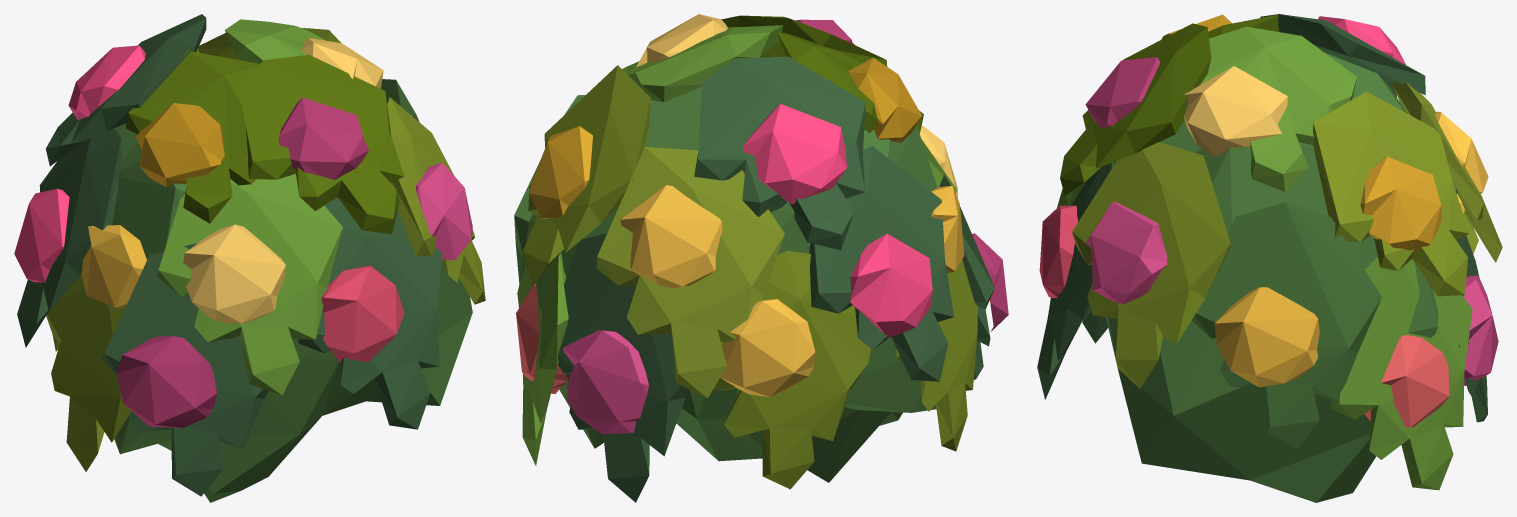
The model's file is meadow-berry.glb.
3 views of the same model, side by side, from view 1: azimuth 30°, elevation 25°; view 2: azimuth 150°, elevation 25°; view 3: azimuth 270°, elevation 25° (orthographic). The views are drawn at different scales.
Parts seen in each view (by area): view 1: EA_M_Env_Bush_BerryDome_01a; view 2: EA_M_Env_Bush_BerryDome_01a; view 3: EA_M_Env_Bush_BerryDome_01a.
Boxes of the visible parts, bbox=[...] form: EA_M_Env_Bush_BerryDome_01a: bbox=[14, 14, 485, 502]; EA_M_Env_Bush_BerryDome_01a: bbox=[514, 14, 1008, 502]; EA_M_Env_Bush_BerryDome_01a: bbox=[1037, 14, 1502, 502].
Bounding box in the file's own units: 1.92 × 1.95 × 1.84.
Materials: 1 (1 with a texture image).
